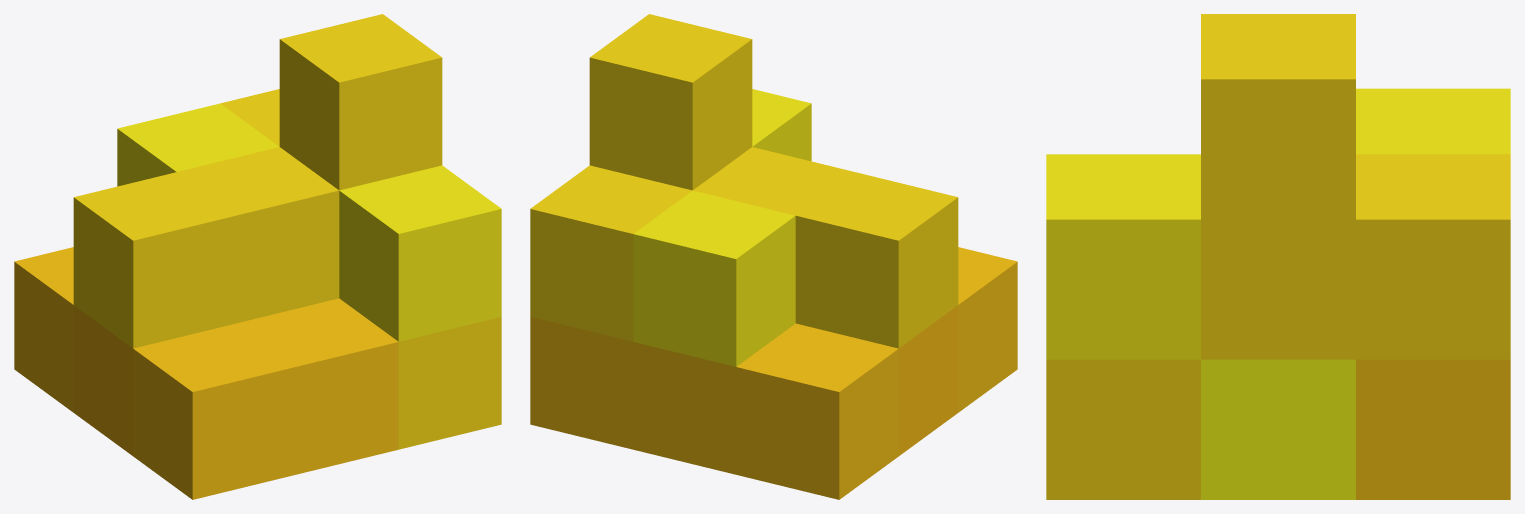
File: wall_torch-7-flames.obj
3 renders of one model, left to right at view 1: azimuth 30°, elevation 25°; view 2: azimuth 150°, elevation 25°; view 3: azimuth 270°, elevation 25°, orthographic. The views are drawn at different scales.
Parts seen in each view (by area): view 1: flames; view 2: flames; view 3: flames.
Part boxes in pixels (x1,y1,x2,y2): flames: (14,14,501,499); flames: (530,14,1017,499); flames: (1046,14,1510,499).
Bounding box in the file's own units: 0.3 × 0.3 × 0.3.
1 material, 1 textured.
